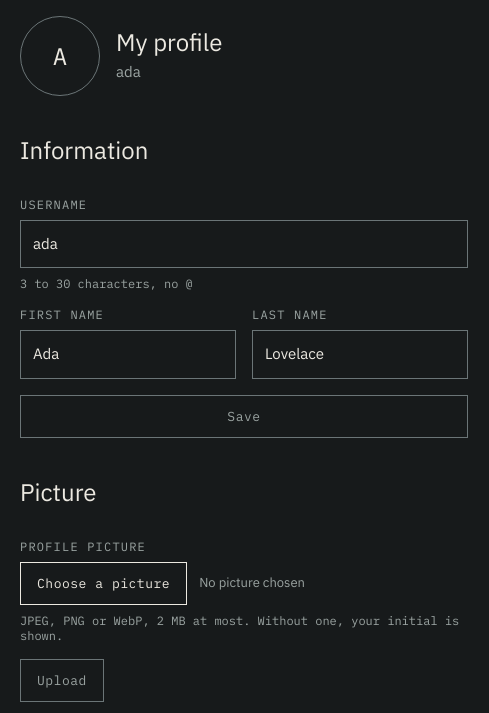
Test: ProfilePage information form › says so when the username is taken (409)
Type "2" into the field labelled "Username" at (244, 244), box top-left (20, 220), bottom-right (468, 268)
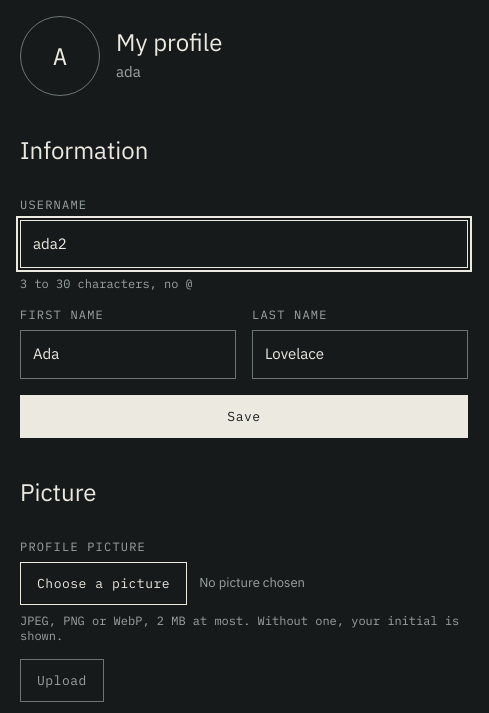
Click the button "Save" at (244, 416), box top-left (20, 395), bottom-right (468, 438)
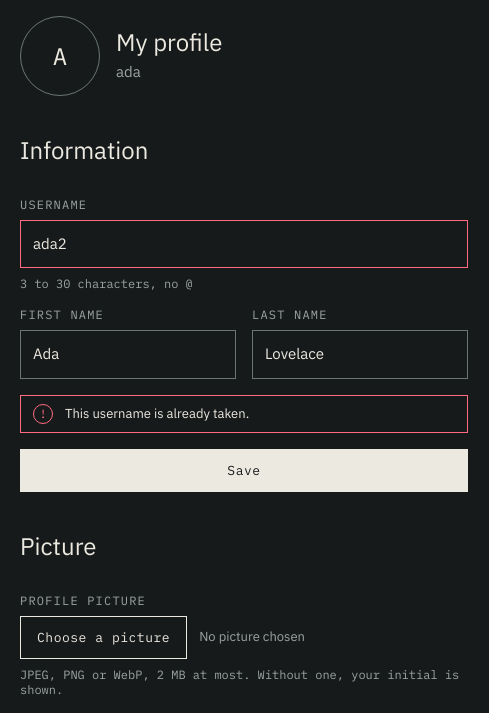
Check: the text "This username is already taken." is shown, box top-left (65, 404), bottom-right (249, 424)
